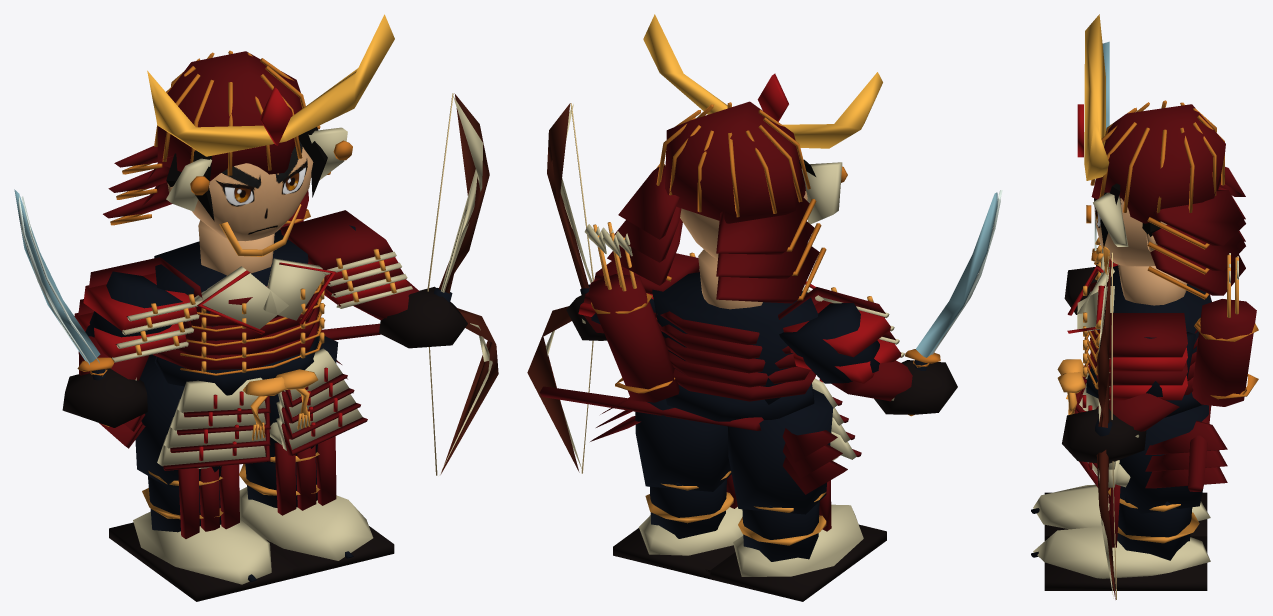
Rendered from samurai.glb.
3 renders of one model, left to right at view 1: azimuth 30°, elevation 25°; view 2: azimuth 150°, elevation 25°; view 3: azimuth 270°, elevation 25°, orthographic. The views are drawn at different scales.
Visible parts, largest first — view 1: Head_Geometry, Body_Geometry, Leg_R_Geometry, Arm_R_Geometry, Leg_L_Geometry, Arm_L_Geometry, Weapon_Pistol_Geometry, Weapon_Cutlass_Geometry; view 2: Head_Geometry, Body_Geometry, Leg_R_Geometry, Leg_L_Geometry, Arm_R_Geometry, Weapon_Pistol_Geometry, Weapon_Cutlass_Geometry, Arm_L_Geometry; view 3: Head_Geometry, Body_Geometry, Leg_L_Geometry, Arm_L_Geometry, Weapon_Pistol_Geometry, Leg_R_Geometry, Arm_R_Geometry, Weapon_Cutlass_Geometry.
Boxes of the visible parts, x1,y1,x2,y2 form: Head_Geometry: [103, 14, 394, 275]; Body_Geometry: [99, 190, 380, 470]; Leg_R_Geometry: [109, 354, 297, 601]; Arm_R_Geometry: [62, 257, 204, 427]; Leg_L_Geometry: [239, 336, 394, 578]; Arm_L_Geometry: [280, 210, 467, 348]; Weapon_Pistol_Geometry: [427, 93, 498, 475]; Weapon_Cutlass_Geometry: [14, 189, 114, 426]; Head_Geometry: [607, 14, 882, 309]; Body_Geometry: [539, 222, 861, 494]; Leg_R_Geometry: [705, 389, 886, 601]; Leg_L_Geometry: [613, 399, 743, 579]; Arm_R_Geometry: [778, 287, 957, 414]; Weapon_Pistol_Geometry: [527, 103, 593, 473]; Weapon_Cutlass_Geometry: [905, 190, 1002, 416]; Arm_L_Geometry: [566, 252, 699, 340]; Head_Geometry: [1077, 14, 1245, 305]; Body_Geometry: [1057, 253, 1258, 491]; Leg_L_Geometry: [1031, 404, 1210, 590]; Arm_L_Geometry: [1062, 313, 1195, 463]; Weapon_Pistol_Geometry: [1095, 252, 1116, 599]; Leg_R_Geometry: [1031, 484, 1210, 536]; Arm_R_Geometry: [1064, 237, 1117, 314]; Weapon_Cutlass_Geometry: [1091, 41, 1109, 265].
Bounding box in the file's own units: 2.45 × 2.5 × 1.07.
2 materials, 2 textured.
